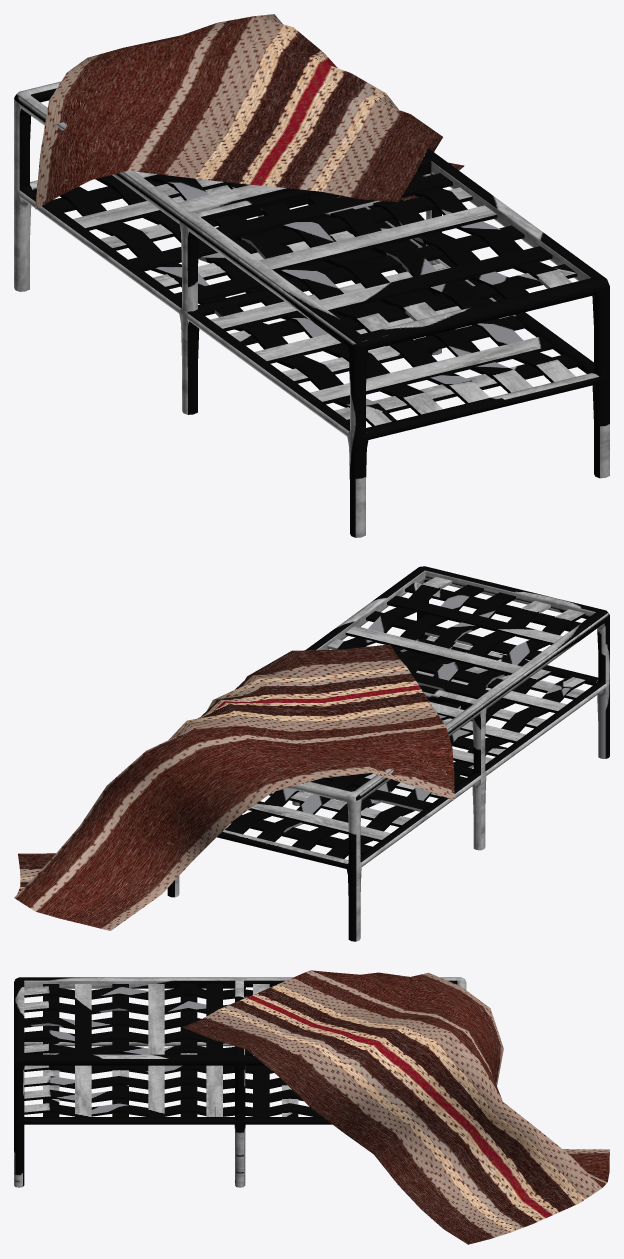
File: Mesa.fbx
3 views of the same model, one above another, from view 1: azimuth 30°, elevation 25°; view 2: azimuth 150°, elevation 25°; view 3: azimuth 270°, elevation 25° (orthographic). The views are drawn at different scales.
Parts seen in each view (by area): view 1: pCube59; view 2: pCube59; view 3: pCube59.
Part boxes in pixels (bbox=[...]): pCube59: bbox=[14, 14, 609, 537]; pCube59: bbox=[14, 566, 609, 941]; pCube59: bbox=[14, 970, 609, 1244].
Bounding box in the file's own units: 3.37 × 1.42 × 5.2.
